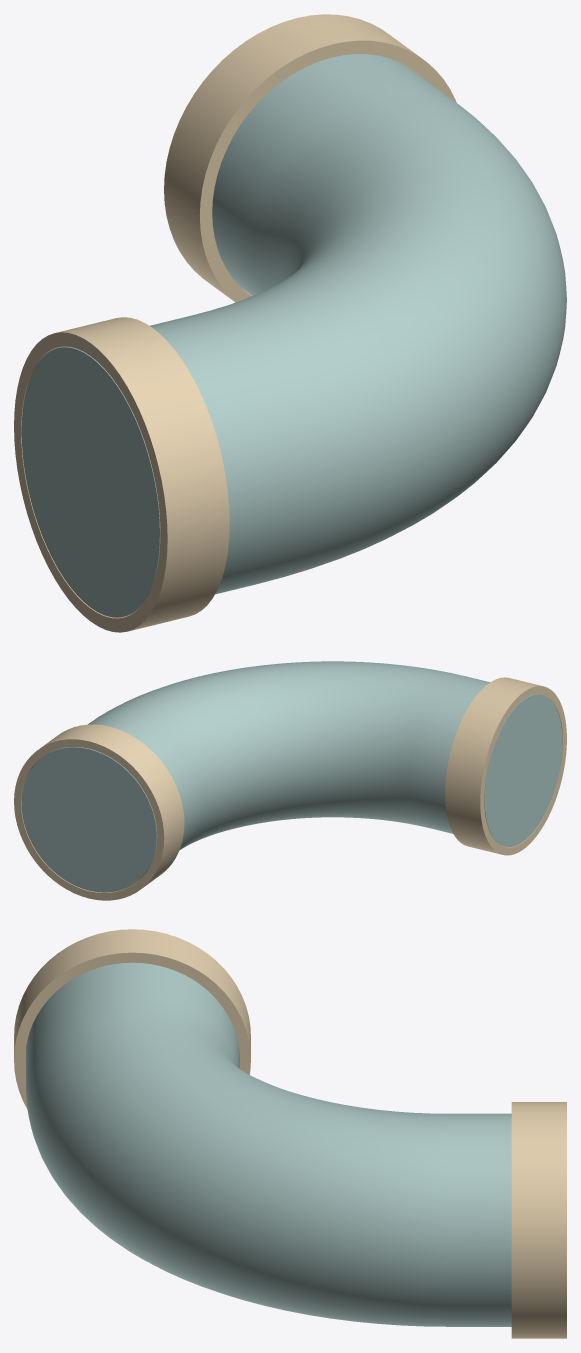
The model's file is Pit_Tube_Elbow_R080.glb.
The picture shows the model from 3 angles, top to bottom: view 1: azimuth 30°, elevation 25°; view 2: azimuth 150°, elevation 25°; view 3: azimuth 270°, elevation 25°; orthographic projection. The views are drawn at different scales.
Parts seen in each view (by area): view 1: Pit_Tube_Elbow_R080, Pit_Tube_Elbow_R080_Sleeves; view 2: Pit_Tube_Elbow_R080, Pit_Tube_Elbow_R080_Sleeves; view 3: Pit_Tube_Elbow_R080, Pit_Tube_Elbow_R080_Sleeves.
Part boxes in pixels (left/top/right/bottom): Pit_Tube_Elbow_R080: left=21, top=54, right=566, bottom=617; Pit_Tube_Elbow_R080_Sleeves: left=14, top=14, right=456, bottom=632; Pit_Tube_Elbow_R080: left=21, top=661, right=562, bottom=892; Pit_Tube_Elbow_R080_Sleeves: left=14, top=677, right=566, bottom=900; Pit_Tube_Elbow_R080: left=26, top=962, right=511, bottom=1326; Pit_Tube_Elbow_R080_Sleeves: left=14, top=929, right=566, bottom=1338.
Bounding box in the file's own units: 1.4 × 0.6 × 1.4.
